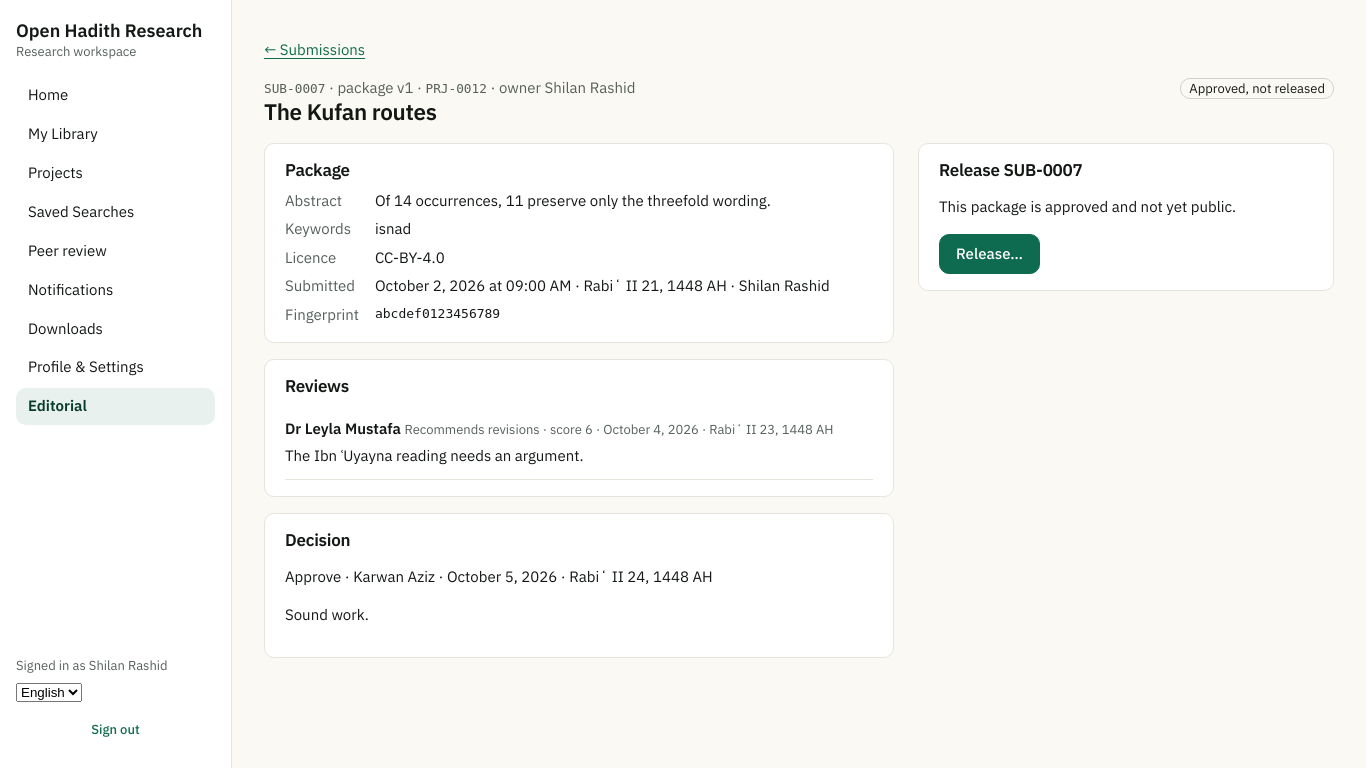
Scenario: Editorial console: release and after › releases an approved package only when its code is typed, with the DOI caution
This screenshot has width=1366, height=768.
Click the button "Release…".
click(990, 254)  # box [939,234,1040,274]
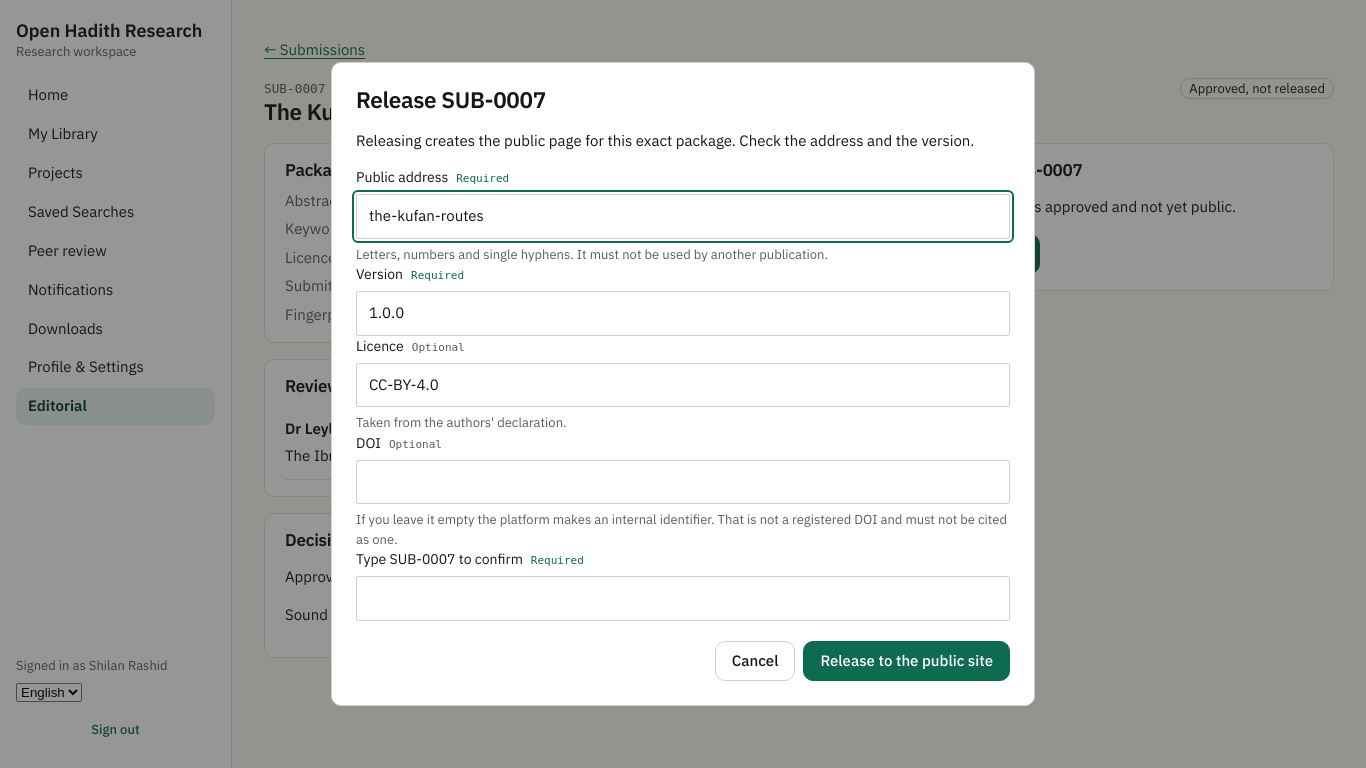
Result: the field labelled "Public address" holds "the-kufan-routes" at [356,194,1010,239]
Result: the text "not a registered DOI" is shown at [356,510,1007,549]
Click the button "Release to the public site".
click(907, 661)  # box [803,641,1010,681]
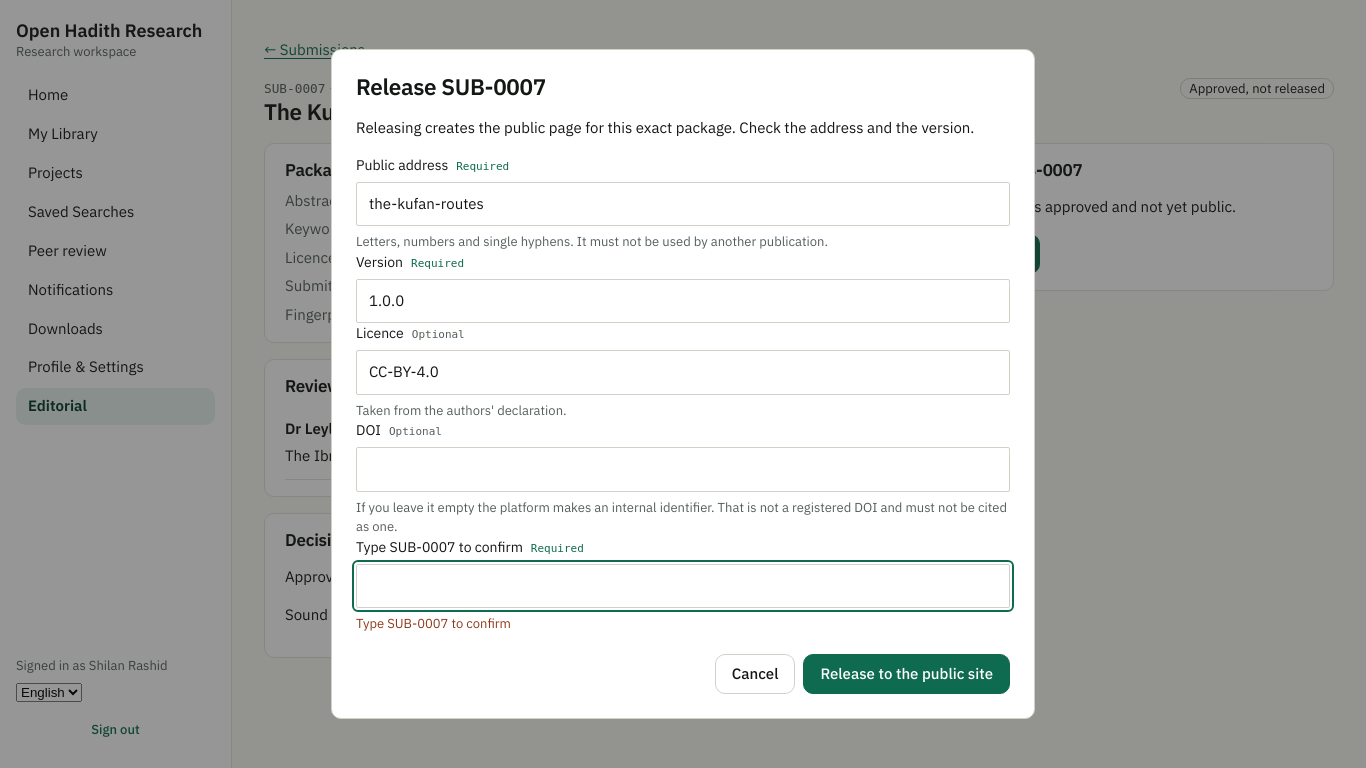
Result: the text "Type SUB-0007 to confirm" is shown at [356,614,511,633]
Type "sub-0007" into the field labelled "Type SUB-0007 to confirm Required Type SUB-0007 to confirm".
click(683, 586); type("sub-0007")  # box [356,564,1010,608]
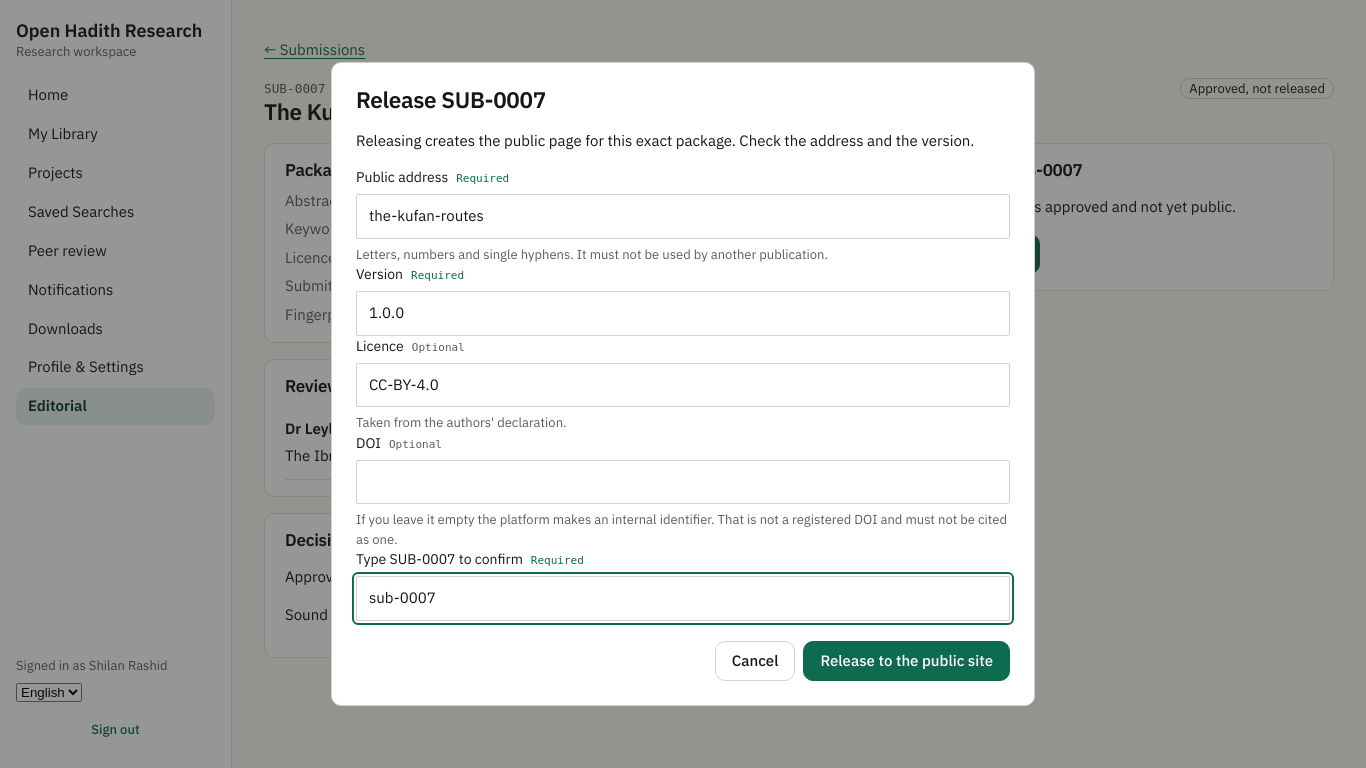
Click the button "Release to the public site".
click(907, 661)  # box [803,641,1010,681]
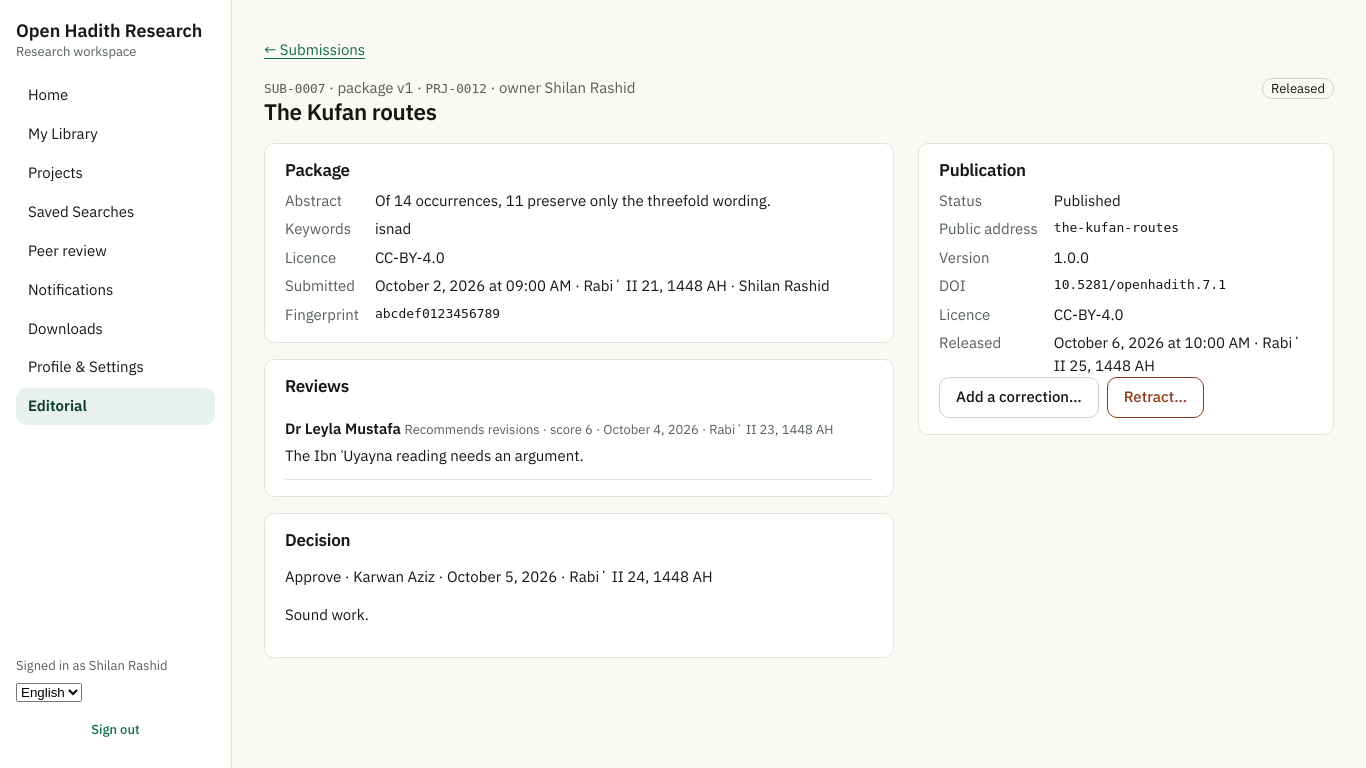
Result: the element "Publication" is shown at [918,143,1334,435]
